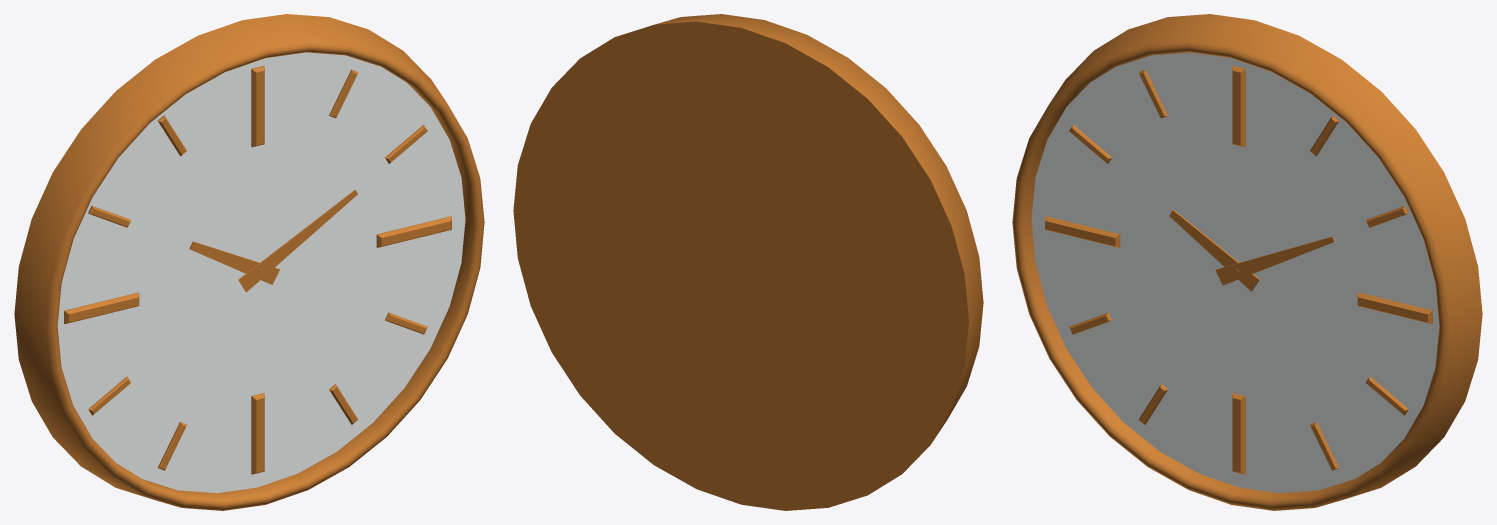
File: clock.fbx
The picture shows the model from 3 angles, left to right: view 1: azimuth 30°, elevation 25°; view 2: azimuth 150°, elevation 25°; view 3: azimuth 330°, elevation 25°; orthographic projection.
Visible parts, largest first — view 1: clockFace, clock, bigHand, digit_6, digit_12, digit_3, digit_9, littleHand; view 2: clock; view 3: clockFace, clock, bigHand, digit_6, digit_12, littleHand, digit_9, digit_3.
Part boxes in pixels (box(x1,y1,x2,y2)): clockFace: box(57, 52, 465, 493); clock: box(14, 14, 484, 510); bigHand: box(238, 190, 357, 292); digit_6: box(251, 393, 264, 474); digit_12: box(251, 66, 264, 147); digit_3: box(376, 216, 451, 247); digit_9: box(64, 292, 139, 323); littleHand: box(189, 241, 279, 284); clock: box(513, 14, 983, 510); clockFace: box(1031, 52, 1439, 493); clock: box(1012, 14, 1482, 510); bigHand: box(1215, 236, 1335, 285); digit_6: box(1232, 393, 1245, 474); digit_12: box(1232, 66, 1245, 147); littleHand: box(1169, 209, 1259, 291); digit_9: box(1045, 216, 1120, 247); digit_3: box(1357, 292, 1432, 323).
Bounding box in the file's own units: 40 × 40 × 3.85.
